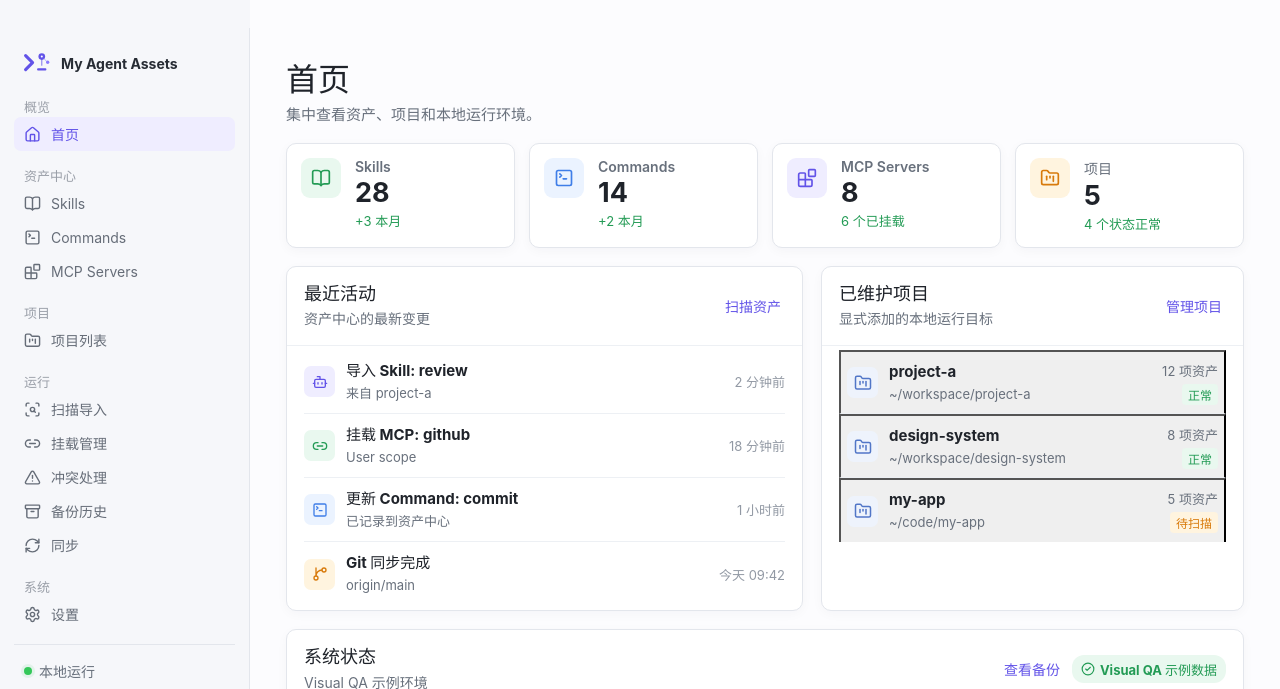
Test: macOS preview home › opens hidden detail pages from list inspectors without adding sidebar routes
Click the button "Commands".
click(124, 237)  # box [14,220,235,254]
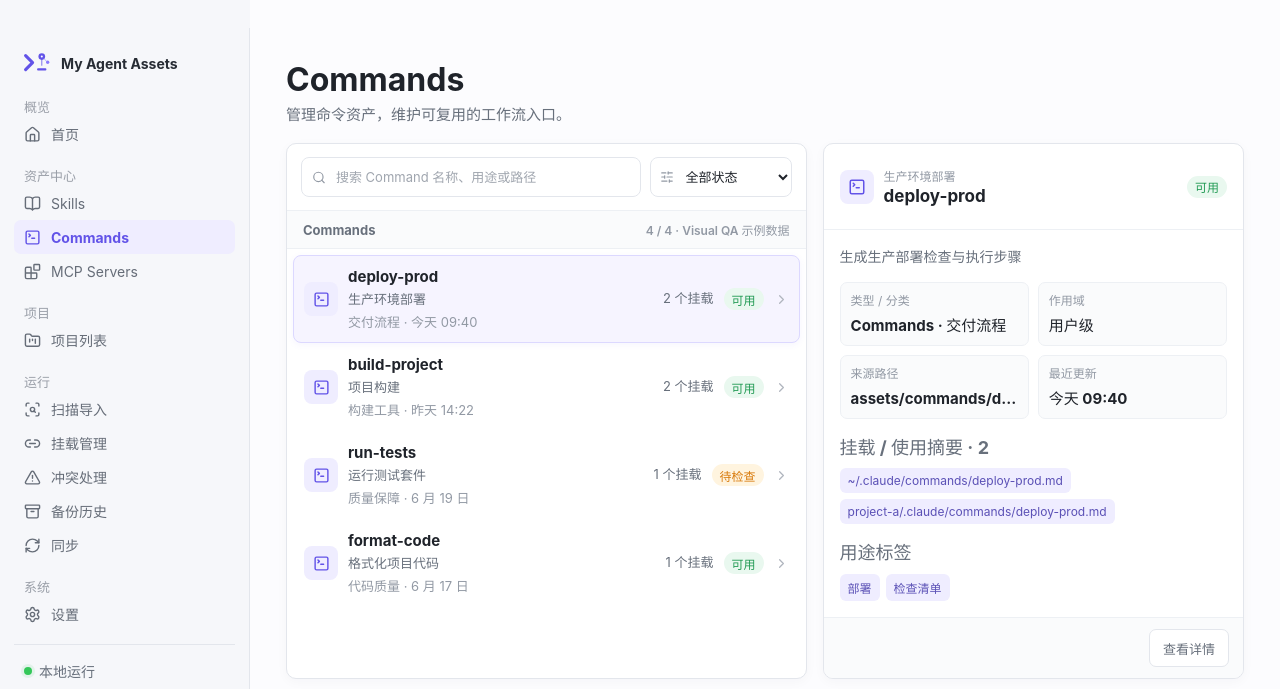
Click the option "format-code".
click(321, 563)  # box [293,519,800,607]
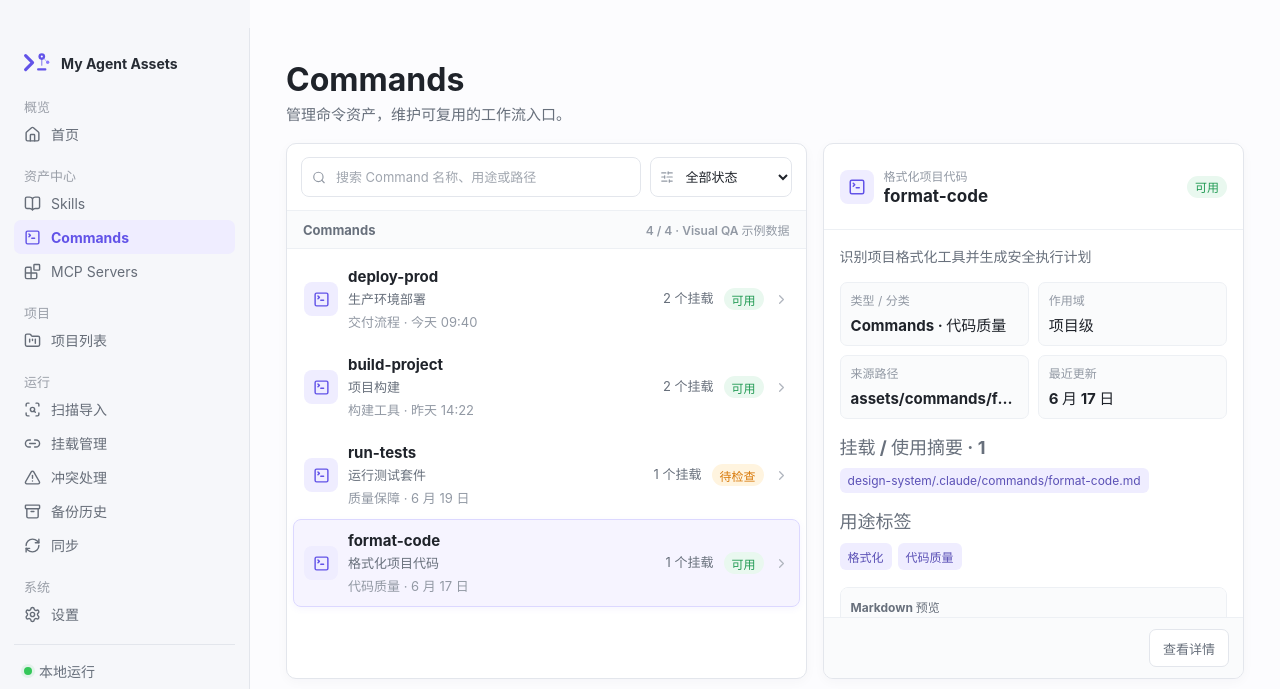
Click the button "查看详情".
click(1189, 648)  # box [1149,629,1229,667]
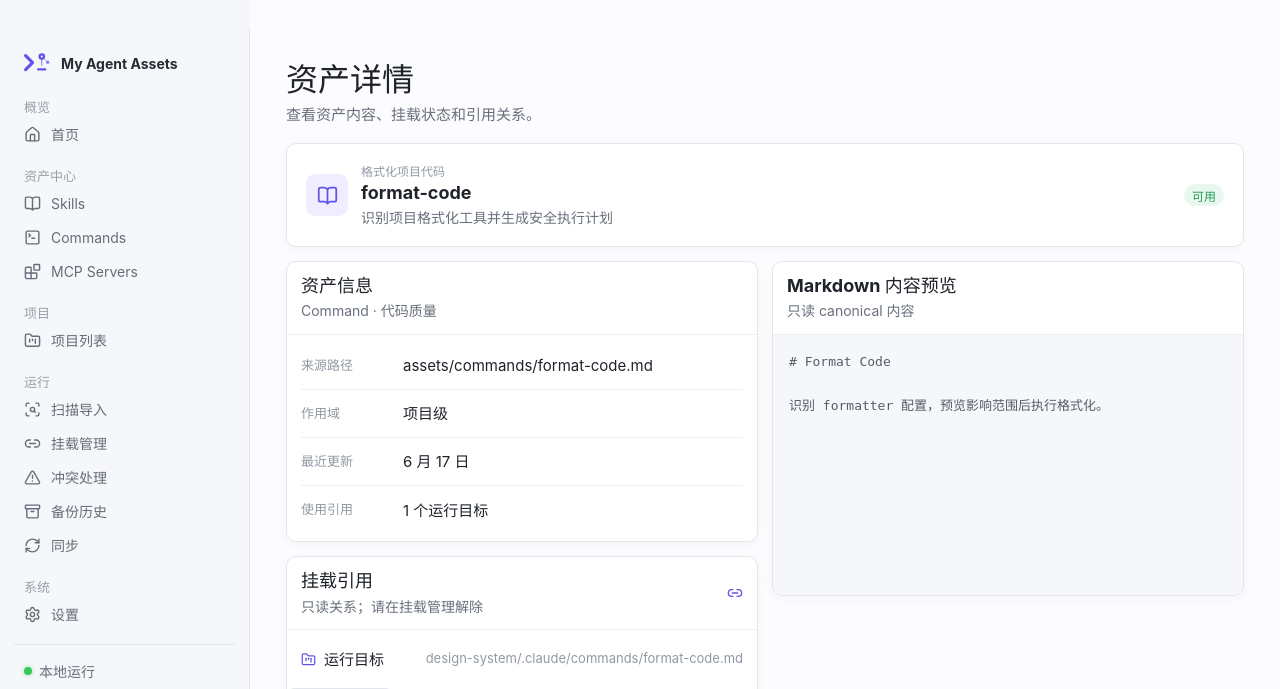
Expected: the heading "format-code" is shown, [361,182,472,203]
Expected: the heading "资产详情" is shown, [286,60,414,99]
Expected: the heading "Markdown 内容预览" is shown, [787,274,957,297]
Click the button "项目列表".
click(124, 340)  # box [14,323,235,357]
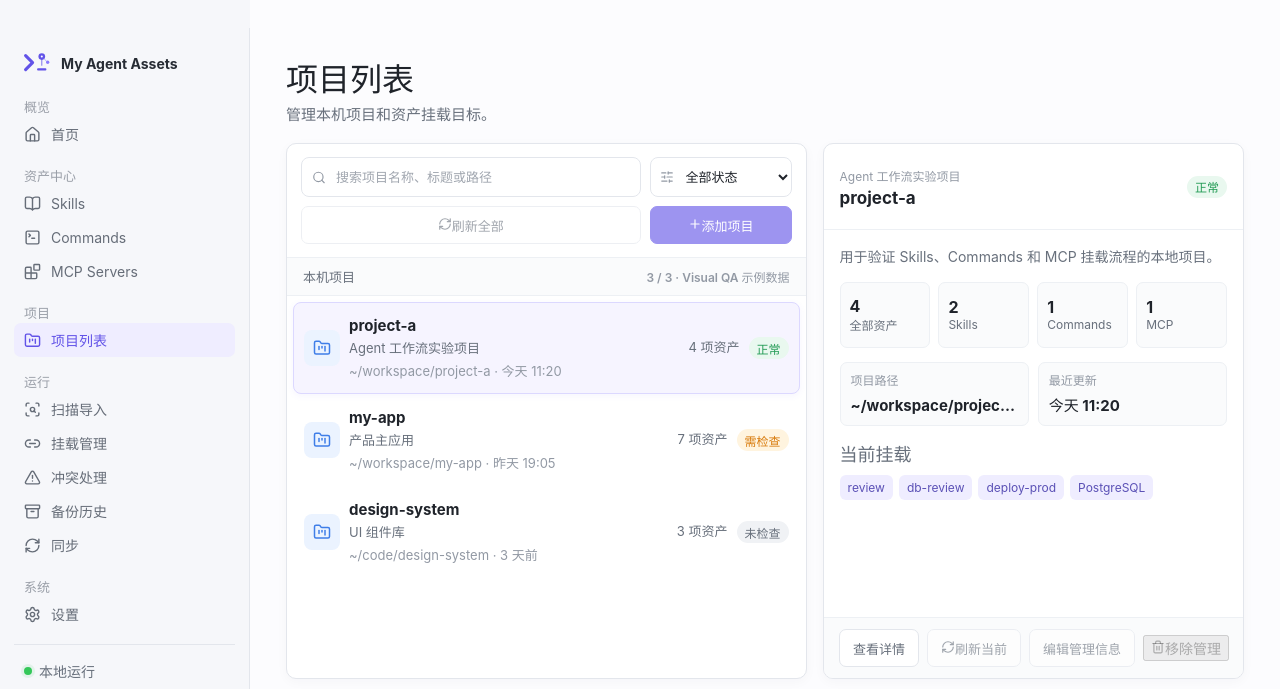
Click the option "my-app".
click(322, 440)  # box [293,394,800,486]
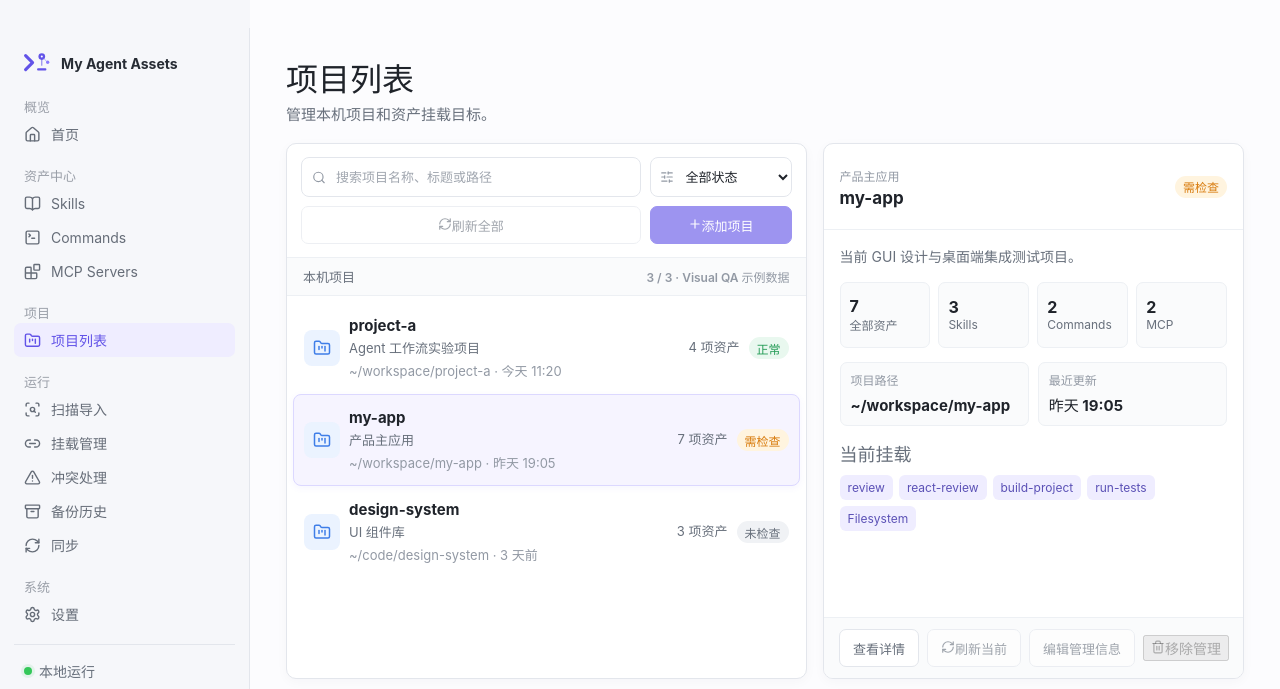
Click the button "查看详情".
click(879, 648)  # box [839,629,919,667]
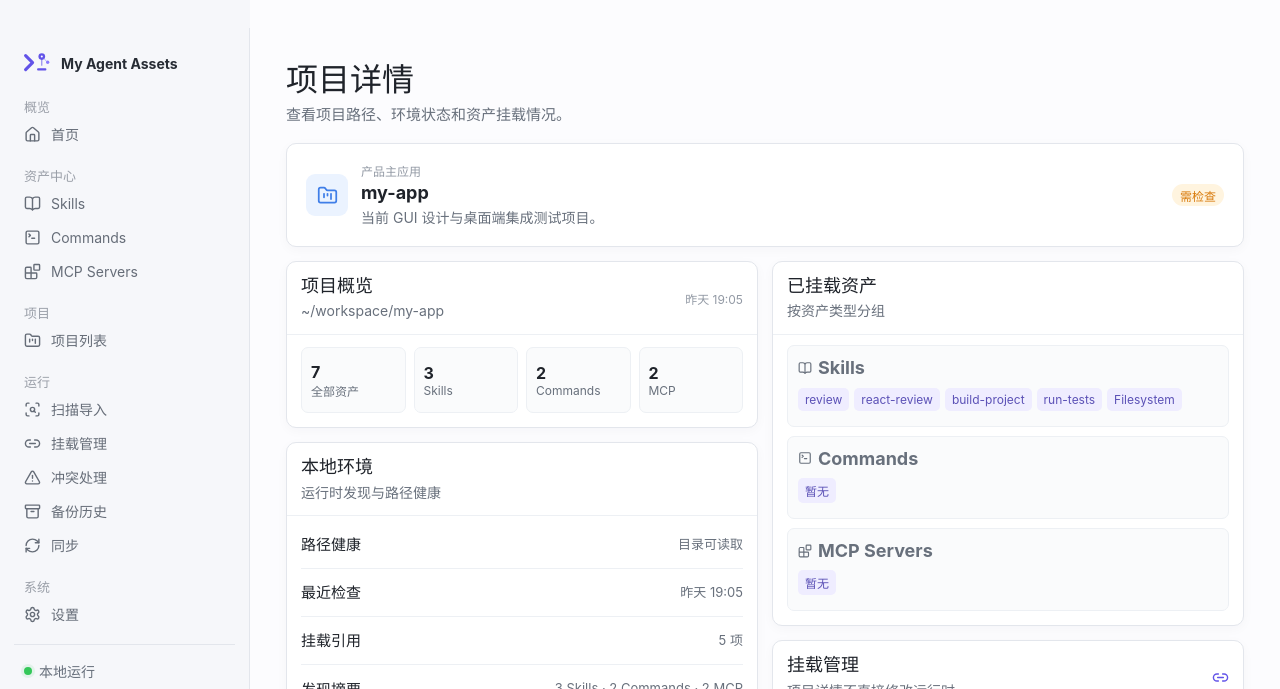
Expected: the heading "my-app" is shown, [361,182,429,203]
Expected: the text "~/workspace/my-app" is shown, [301,300,444,322]
Expected: the heading "项目详情" is shown, [286,60,414,99]
